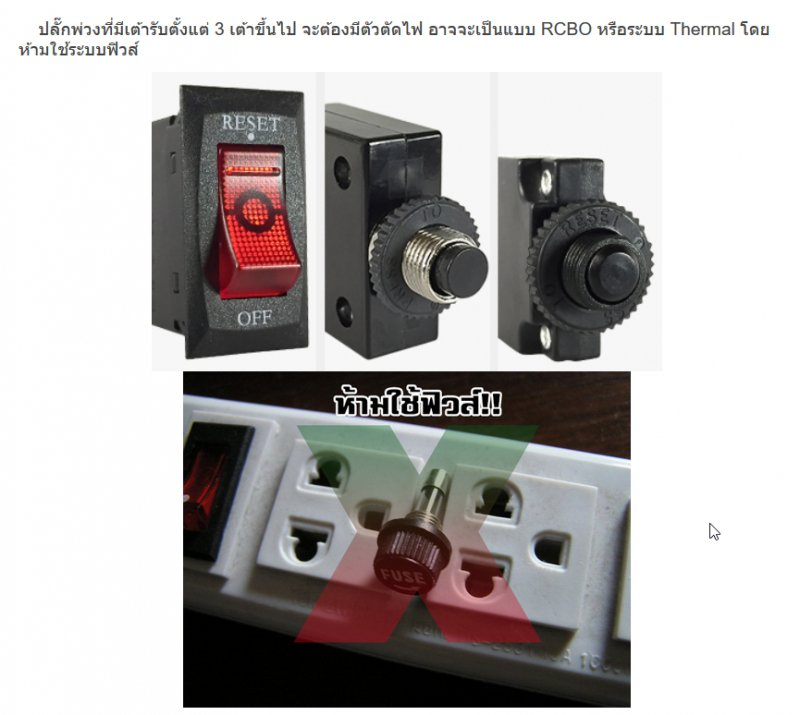Three_eye_plug: (180, 381, 634, 706)
